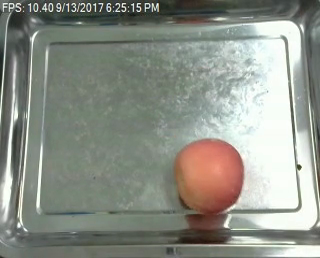Apple: (171, 136, 244, 218)
